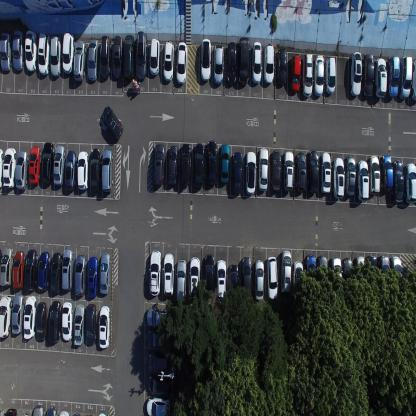car: (101, 104, 123, 140), (40, 140, 54, 186), (147, 328, 175, 350), (23, 296, 37, 340), (2, 146, 16, 190), (149, 250, 162, 297), (0, 246, 14, 288), (356, 158, 370, 200), (265, 255, 278, 299), (74, 252, 87, 296), (61, 248, 74, 292), (48, 300, 61, 344), (24, 248, 37, 292), (14, 150, 28, 190), (73, 39, 86, 82), (11, 292, 24, 335), (193, 142, 205, 188), (307, 148, 319, 194), (350, 51, 362, 97), (362, 52, 374, 98), (329, 257, 342, 299), (148, 352, 174, 373), (319, 151, 332, 193), (380, 154, 394, 193), (225, 41, 237, 86), (280, 249, 292, 294), (99, 35, 111, 80), (101, 148, 113, 193), (89, 148, 101, 193), (37, 250, 50, 291), (35, 300, 48, 341), (332, 157, 345, 198), (374, 57, 387, 98), (387, 55, 400, 96), (190, 256, 202, 300), (231, 150, 243, 194), (174, 41, 186, 85), (238, 36, 249, 84), (136, 31, 147, 79), (123, 32, 134, 80), (87, 37, 99, 81), (50, 34, 62, 78), (38, 31, 50, 75), (85, 302, 97, 346), (0, 295, 12, 339), (392, 159, 404, 203), (400, 55, 412, 99), (146, 307, 172, 327), (28, 144, 41, 184), (25, 29, 37, 72), (12, 29, 24, 72), (404, 161, 416, 204), (99, 304, 110, 350), (292, 260, 304, 302), (304, 254, 316, 296), (0, 30, 12, 72), (53, 144, 65, 186), (146, 395, 171, 415), (204, 253, 215, 298), (241, 255, 252, 300), (302, 52, 313, 97), (12, 251, 25, 289), (253, 259, 265, 300), (62, 32, 74, 73), (64, 149, 76, 190), (164, 253, 175, 297), (245, 150, 256, 194), (342, 257, 353, 301), (50, 250, 61, 294), (345, 154, 356, 198), (390, 255, 402, 295), (162, 39, 173, 82), (283, 149, 294, 192), (378, 254, 390, 293), (148, 376, 174, 394), (87, 256, 98, 298), (73, 303, 84, 345), (270, 150, 281, 192), (296, 151, 307, 193), (181, 141, 191, 187), (368, 154, 380, 192), (324, 56, 336, 94), (216, 259, 227, 300), (317, 254, 328, 295), (62, 300, 73, 341), (206, 140, 216, 185), (177, 259, 187, 304), (258, 146, 268, 191), (154, 142, 164, 186), (200, 38, 210, 82), (355, 255, 365, 299), (112, 35, 122, 79), (77, 150, 88, 190), (252, 40, 262, 84), (228, 264, 240, 300), (168, 145, 178, 188), (213, 43, 223, 86), (100, 251, 110, 294), (264, 43, 274, 86), (314, 53, 324, 96), (149, 37, 160, 76), (220, 143, 230, 185), (366, 255, 377, 292), (277, 46, 287, 86), (291, 52, 301, 92), (412, 58, 416, 99), (32, 404, 45, 415), (0, 145, 3, 189), (46, 406, 58, 416), (5, 408, 18, 416), (59, 408, 69, 415), (96, 409, 107, 415), (72, 410, 82, 416), (20, 410, 30, 416), (0, 408, 4, 416)
